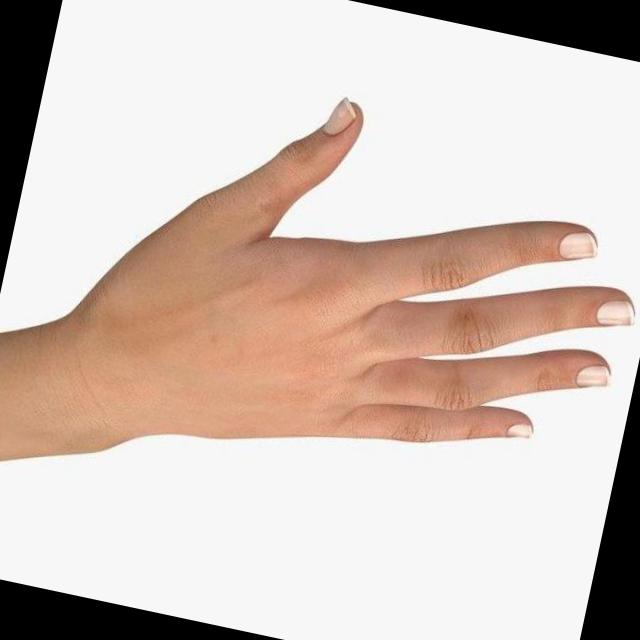Nail: (557, 230, 597, 259), (323, 96, 355, 132), (595, 298, 634, 325), (574, 362, 609, 386), (504, 422, 532, 437)
